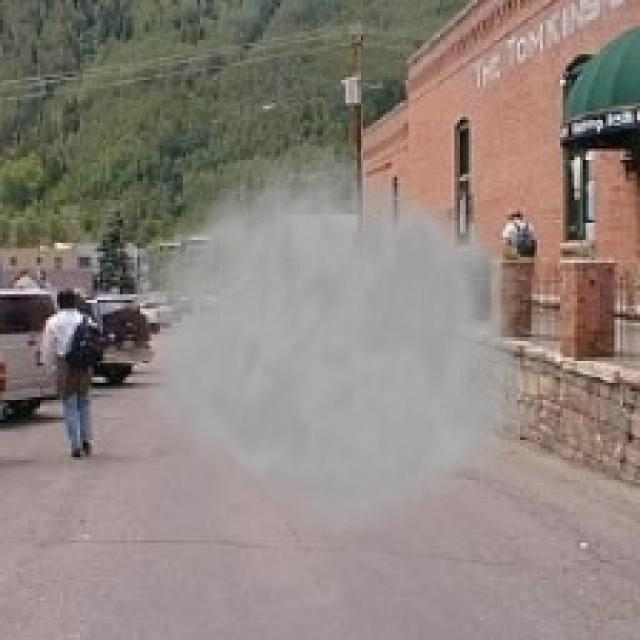smoke: (134, 128, 552, 548)
